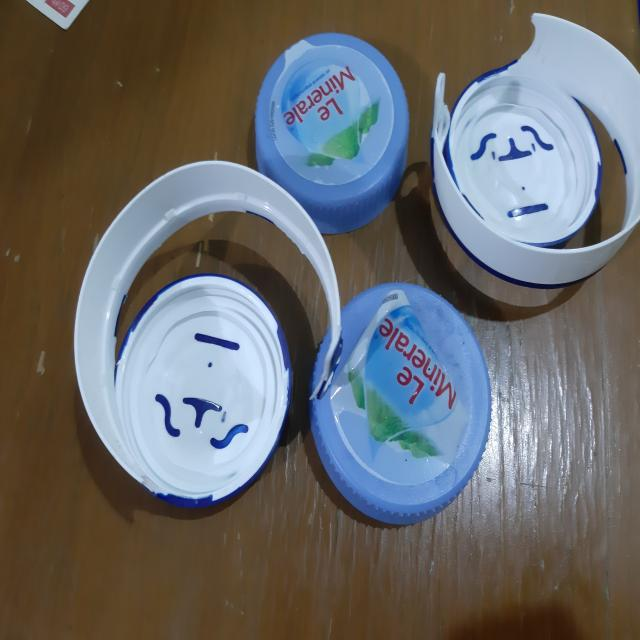TutupGalon: (50, 29, 640, 571), (70, 158, 340, 523), (434, 12, 640, 287), (313, 277, 488, 526), (253, 31, 409, 239)
